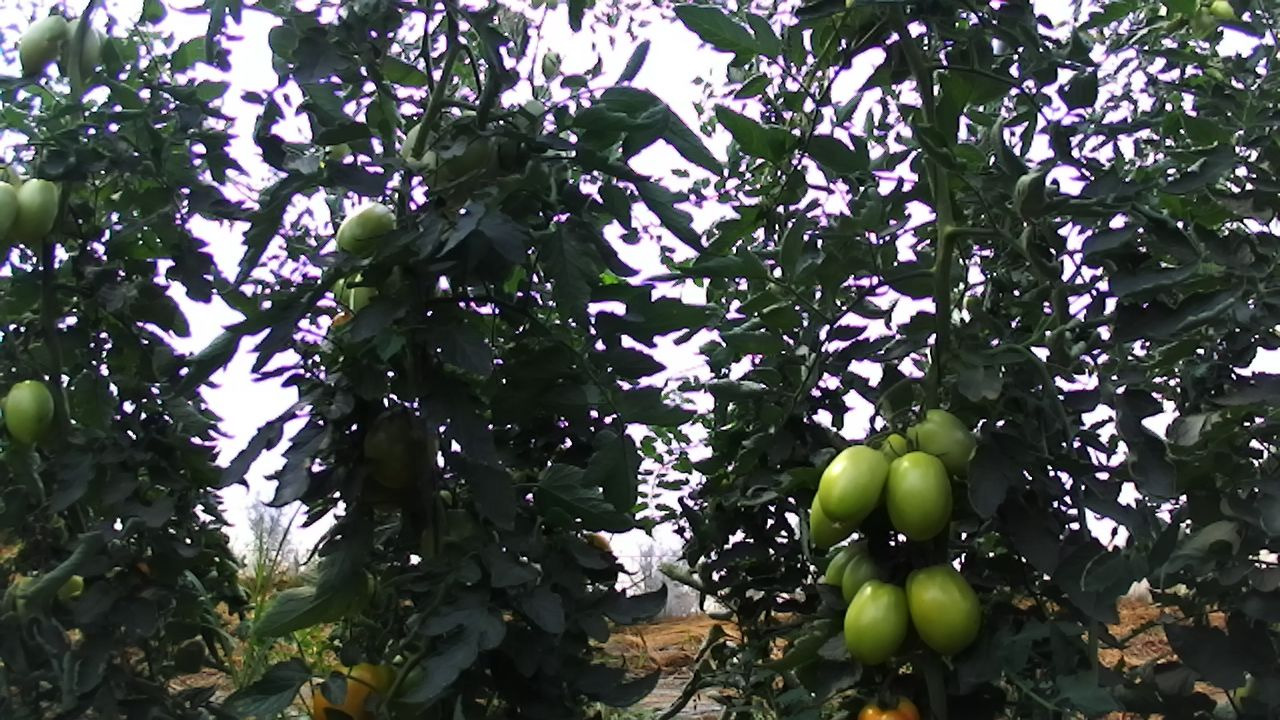tomato: (904, 562, 984, 658), (810, 438, 893, 530), (898, 402, 985, 483), (883, 449, 957, 543), (840, 575, 912, 668), (330, 196, 398, 258), (0, 377, 58, 448), (16, 9, 69, 79), (13, 176, 62, 243), (837, 546, 888, 606)
